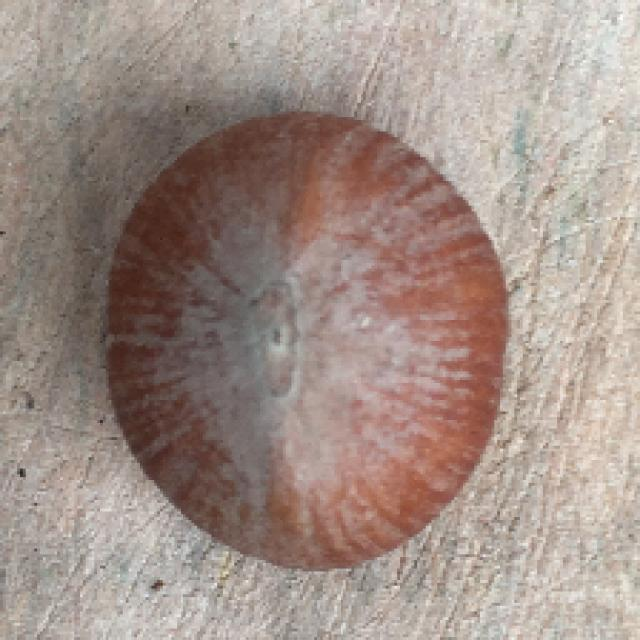qualityHazelnut: (99, 108, 510, 575)
